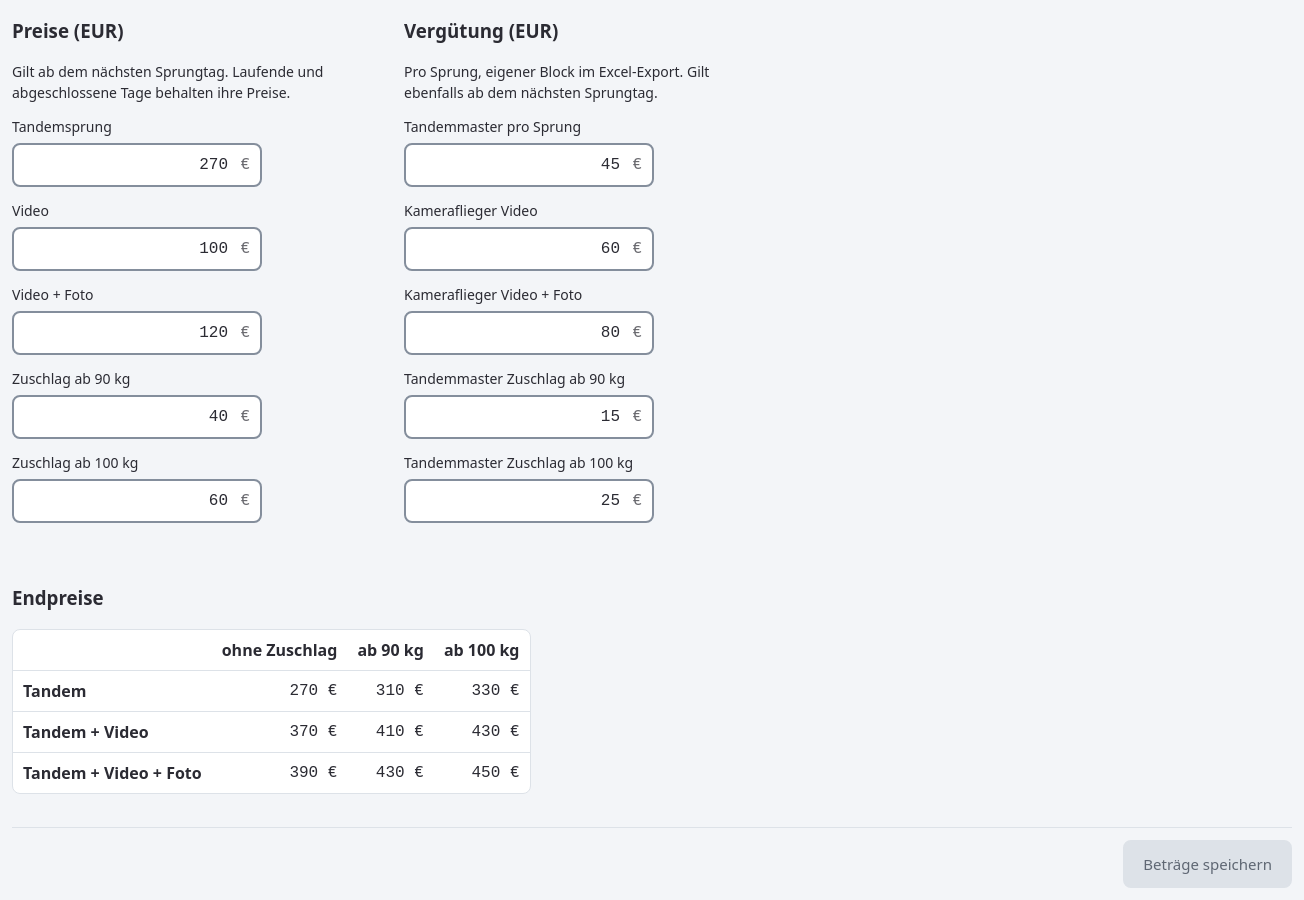
Test: Beträge › discards unsaved changes on Verwerfen
This screenshot has width=1304, height=900.
Check: the heading "Preise (EUR)" is shown, box [12,18,124,43]
Replace the text in the field labelled "Tandemsprung" with "999" at (137, 165), box [12,143,262,187]
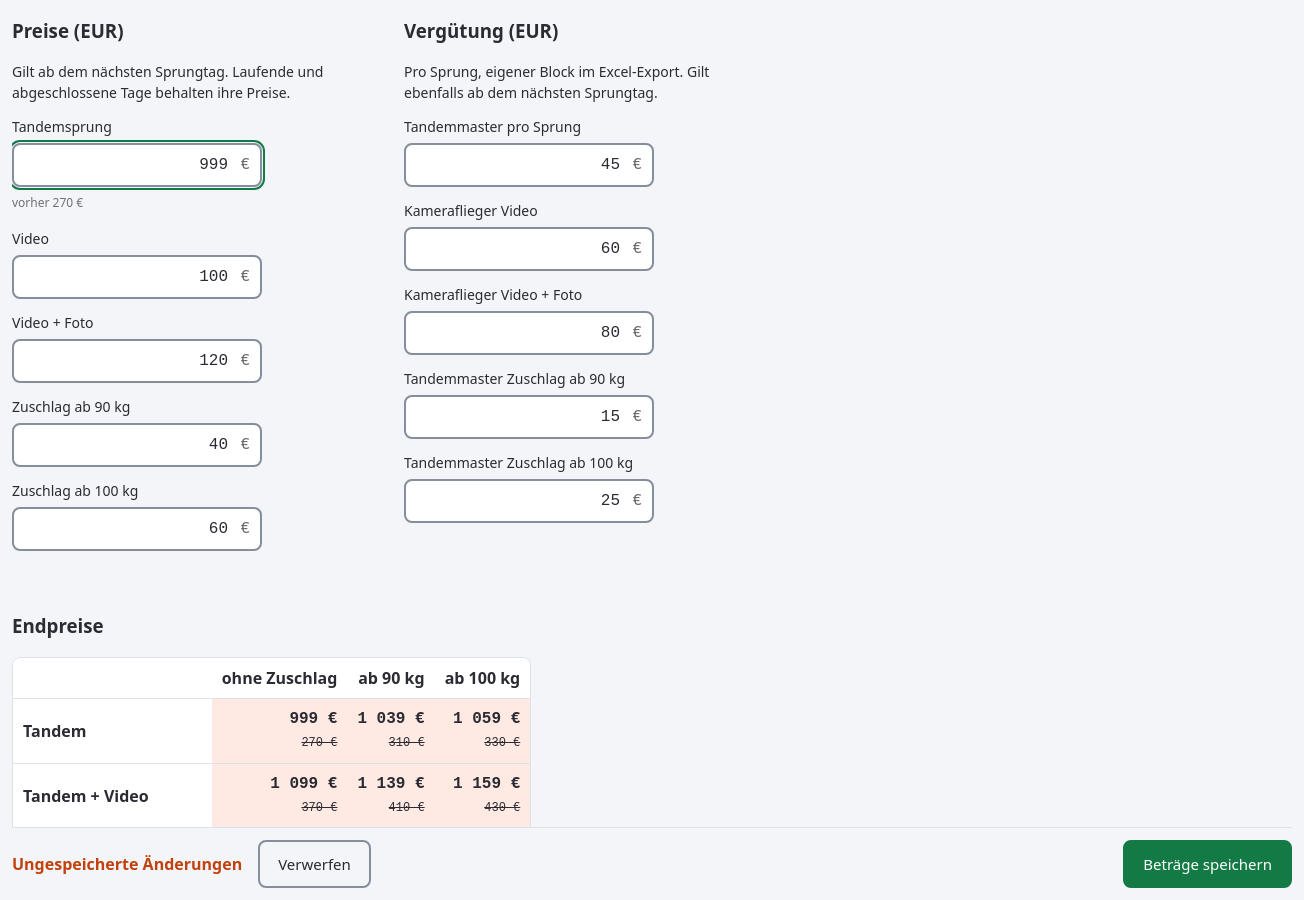
Click the button "Verwerfen" at (315, 864), box [258,840,371,888]
(page scrolled)
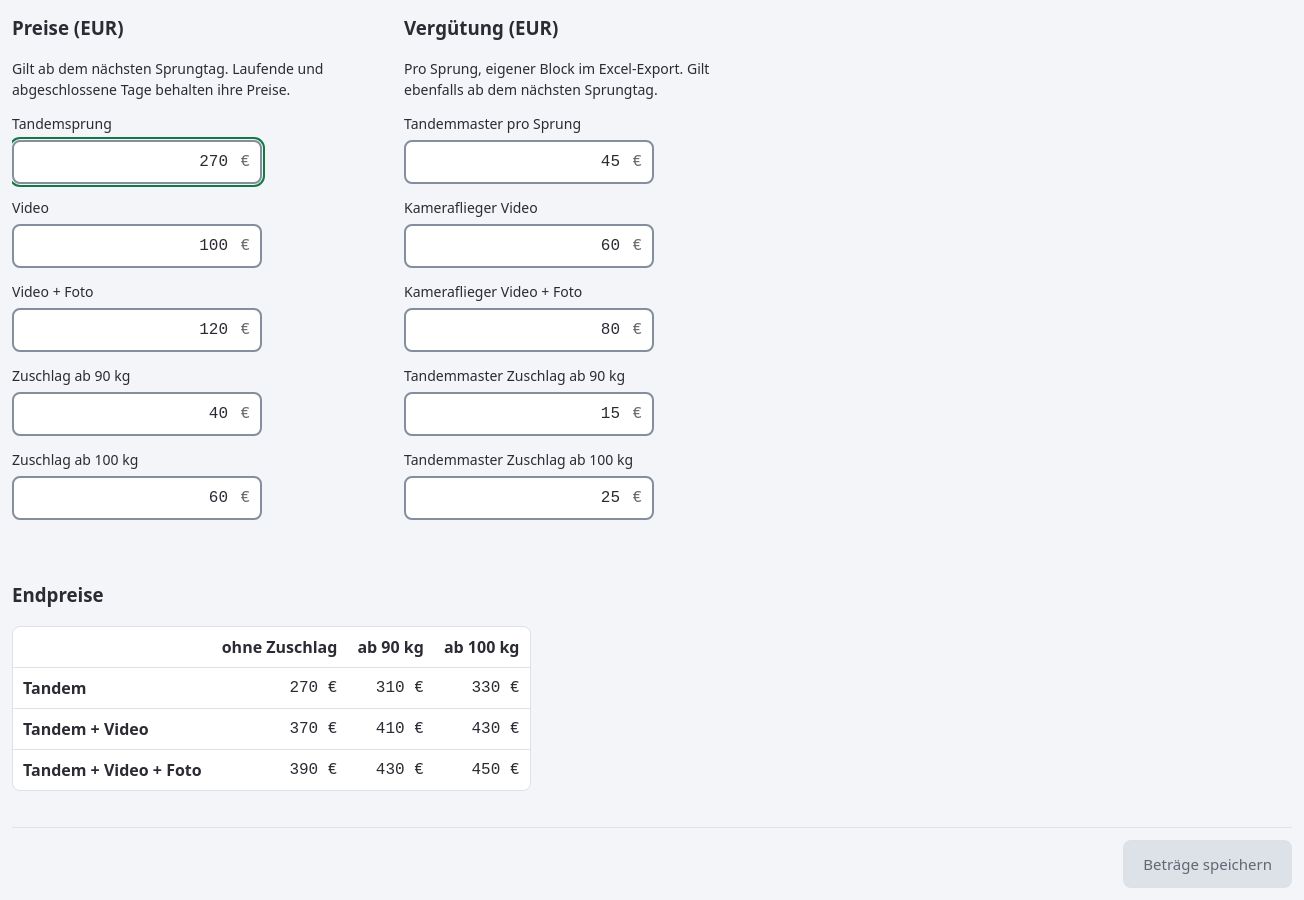
Check: the field labelled "Tandemsprung" holds "270", box [12,140,262,184]
Check: the button "Beträge speichern" is disabled, box [1123,840,1292,888]
Check: the button "Verwerfen" is gone
